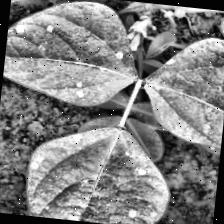Bean Rust: (25, 119, 176, 224), (1, 0, 144, 110), (136, 31, 224, 152)
